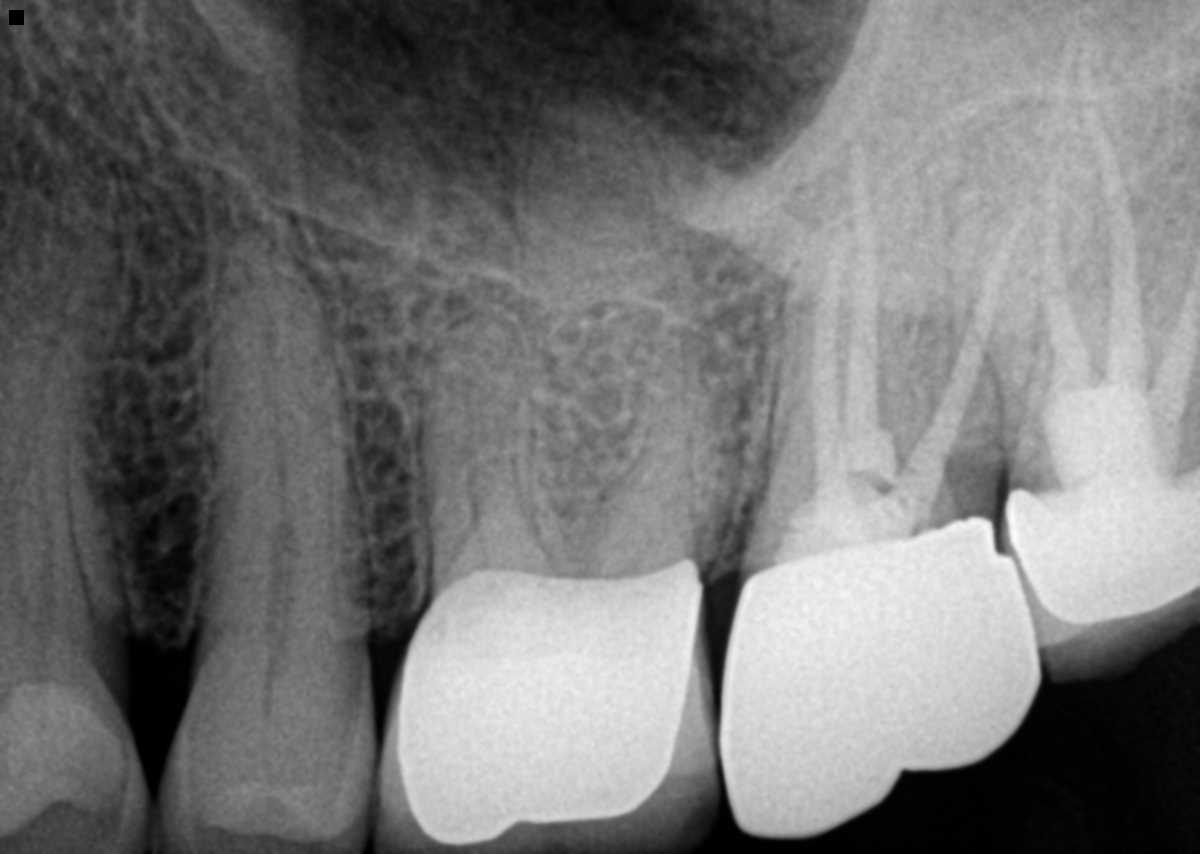Distal Root: (887, 210, 1040, 497), (601, 313, 754, 561), (1142, 220, 1200, 449)
Main Canal: (262, 323, 301, 627), (37, 463, 53, 653)
Main Root: (191, 222, 374, 635), (0, 248, 128, 656)
Mesial Canal: (463, 377, 499, 570)
Mesial Root: (416, 313, 550, 590), (975, 187, 1106, 439), (769, 211, 876, 473)
Palatal Root: (443, 64, 696, 585), (771, 114, 956, 528), (1021, 16, 1183, 400)
Root Canal Filling: (909, 220, 1025, 472), (1082, 34, 1148, 387), (844, 149, 883, 469), (809, 226, 852, 461), (1040, 196, 1086, 388), (1144, 271, 1199, 425)
